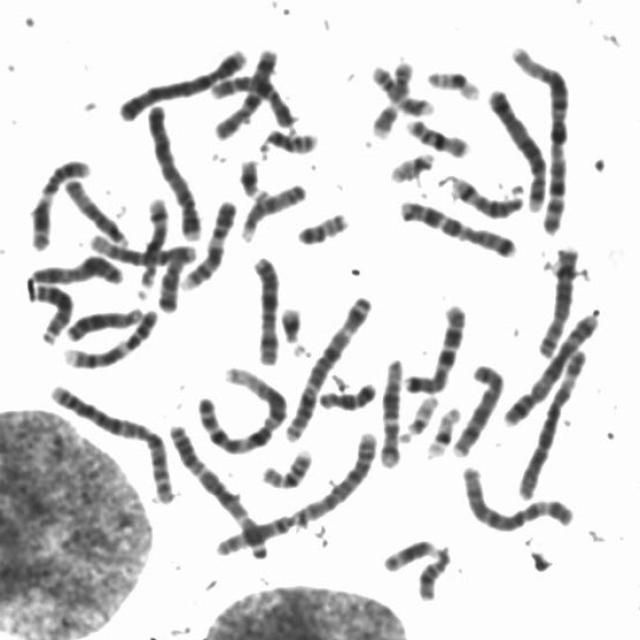A1: (506, 39, 573, 235), (190, 360, 290, 456)
A2: (210, 425, 383, 559), (44, 378, 178, 506)
A3: (280, 288, 377, 444), (164, 419, 270, 559)
B4: (112, 42, 250, 123), (144, 96, 206, 242)
B5: (498, 306, 602, 428), (483, 82, 550, 213)
C10: (210, 42, 282, 140), (206, 70, 296, 129)
C11: (26, 153, 94, 252), (372, 539, 456, 603)
C12: (84, 227, 198, 267), (374, 353, 406, 470)
C6: (513, 341, 592, 502), (458, 459, 578, 533)
C7: (396, 195, 520, 259), (398, 297, 469, 395)
C8: (447, 357, 507, 458), (532, 241, 583, 359)
C9: (60, 302, 162, 370), (179, 196, 240, 291)
D13: (62, 300, 147, 343), (24, 276, 76, 346)
D14: (444, 170, 526, 220), (134, 191, 172, 294)
D15: (61, 174, 132, 247), (235, 177, 309, 243)
E16: (401, 112, 472, 159), (257, 442, 315, 492)
E17: (366, 54, 416, 141), (367, 59, 438, 117)
E18: (154, 247, 192, 314), (314, 376, 378, 412)
F19: (422, 400, 463, 460), (422, 64, 483, 102)
F20: (293, 206, 352, 246), (258, 124, 320, 156)
G21: (234, 152, 272, 201), (275, 300, 305, 348)
G22: (397, 389, 441, 442), (384, 146, 437, 184)
X: (248, 251, 282, 367), (25, 250, 125, 286)
